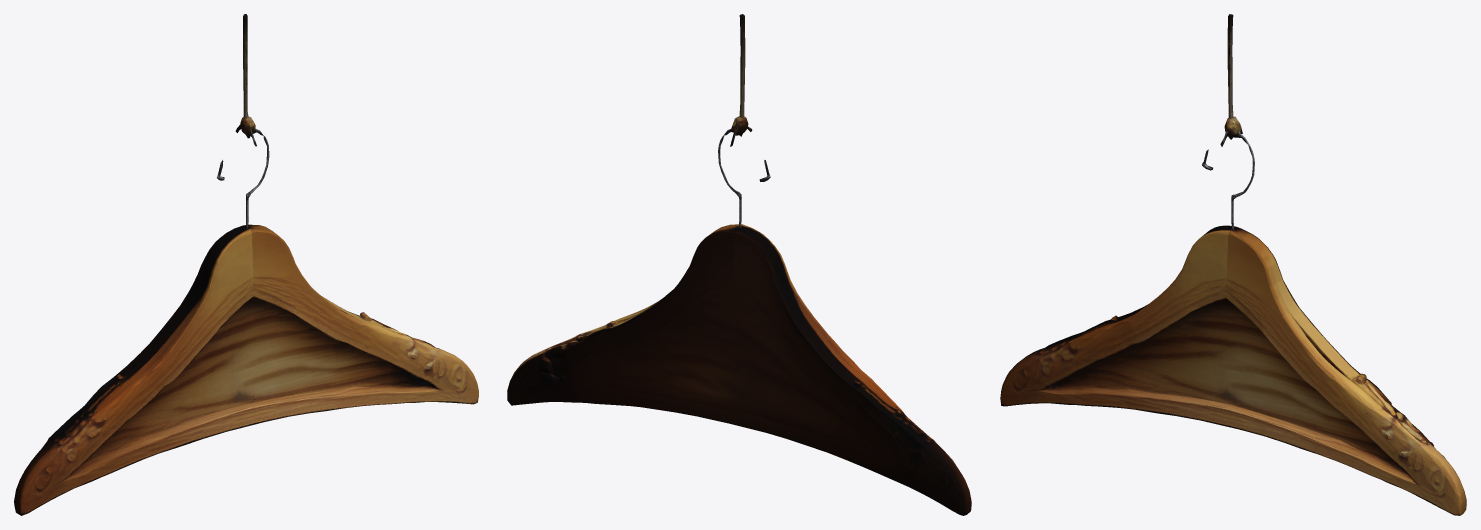
The model's file is wooden-hanger-rustic.jpeg.glb.
The picture shows the model from 3 angles, left to right: view 1: azimuth 30°, elevation 25°; view 2: azimuth 150°, elevation 25°; view 3: azimuth 330°, elevation 25°; orthographic projection.
Parts seen in each view (by area): view 1: world; view 2: world; view 3: world.
Boxes of the visible parts, x1=… form: world: x1=14, y1=14, x2=478, y2=515; world: x1=507, y1=14, x2=971, y2=515; world: x1=1000, y1=14, x2=1466, y2=515.
Bounding box in the file's own units: 1 × 0.9254 × 0.078.
Materials: 1 (1 with a texture image).
